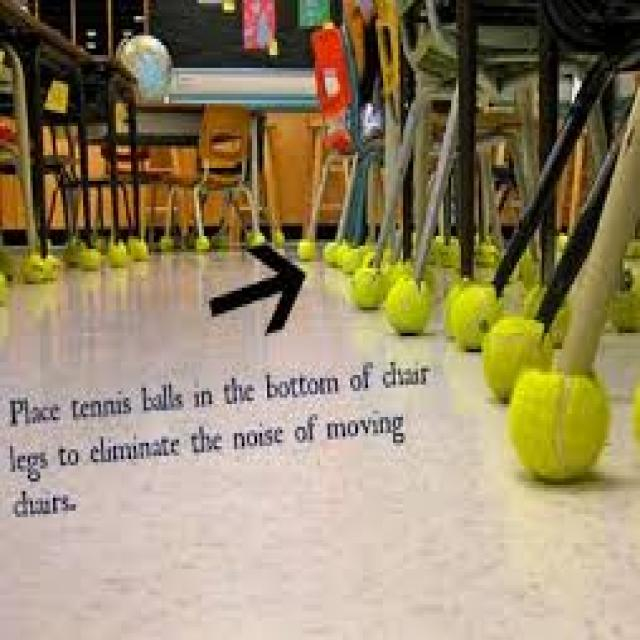Tennis_Ball: (512, 371, 602, 476), (389, 274, 439, 334), (492, 326, 541, 381), (454, 289, 494, 345), (354, 272, 390, 308), (340, 248, 362, 274), (26, 257, 45, 283), (322, 236, 338, 264), (108, 240, 124, 266), (82, 250, 100, 271), (43, 256, 58, 281), (65, 241, 80, 263), (132, 241, 150, 259), (299, 241, 311, 256)
